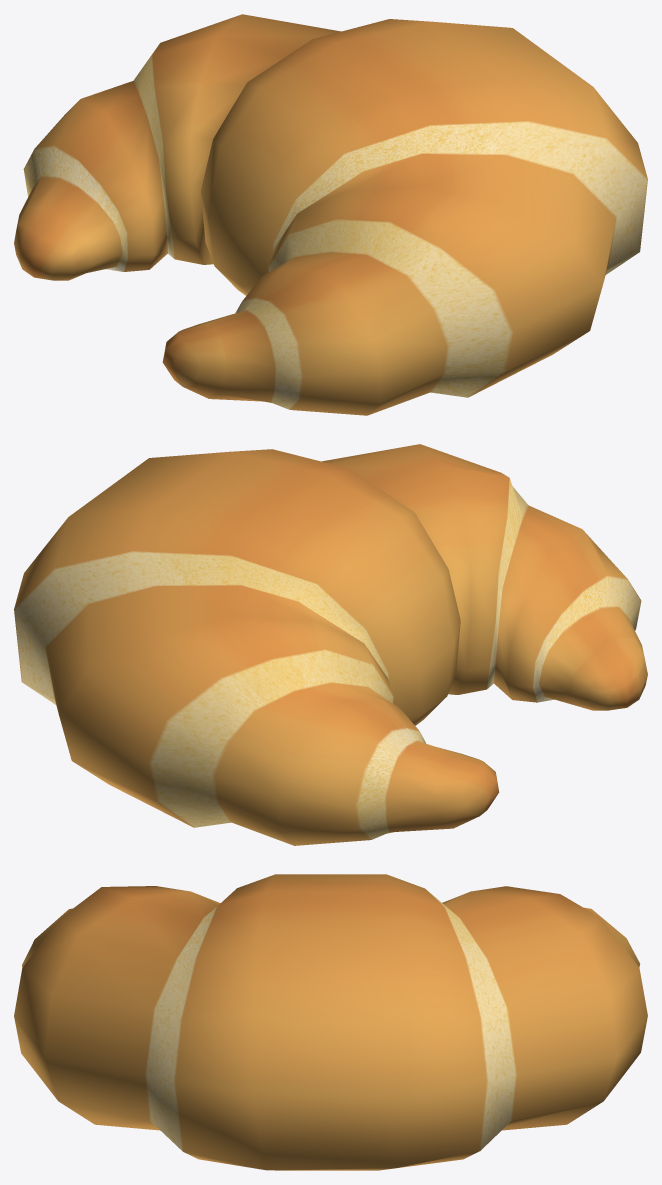
Rendered from croissant.fbx.
The picture shows the model from 3 angles, top to bottom: view 1: azimuth 30°, elevation 25°; view 2: azimuth 150°, elevation 25°; view 3: azimuth 270°, elevation 25°; orthographic projection. The views are drawn at different scales.
Parts seen in each view (by area): view 1: Plane.002; view 2: Plane.002; view 3: Plane.002.
Boxes of the visible parts, box(x1,y1,x2,y2) form: Plane.002: box(14, 14, 647, 415); Plane.002: box(14, 444, 647, 845); Plane.002: box(14, 874, 647, 1170).
Size of the model in its own units: 139 by 56.07 by 158.
Materials: 1 (1 with a texture image).
